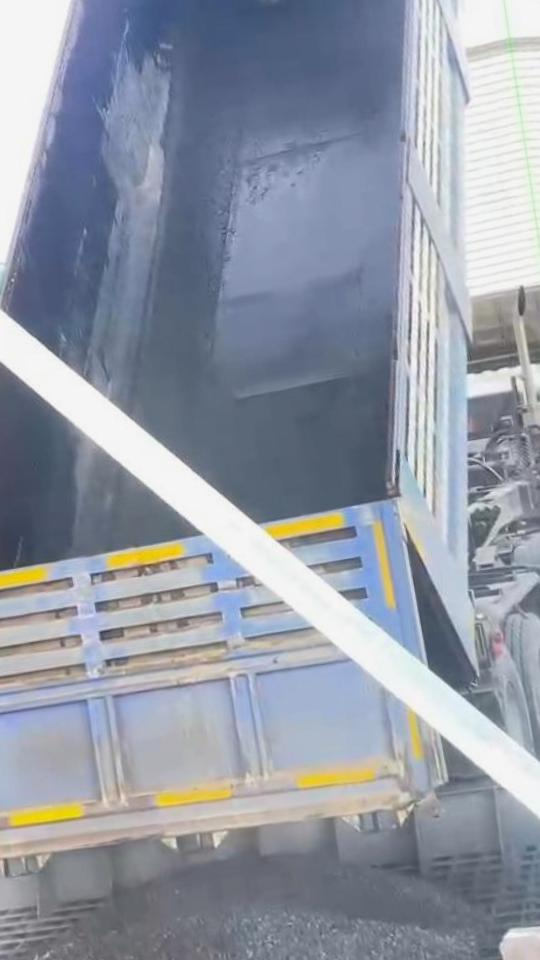gravel: (0, 858, 477, 960)
